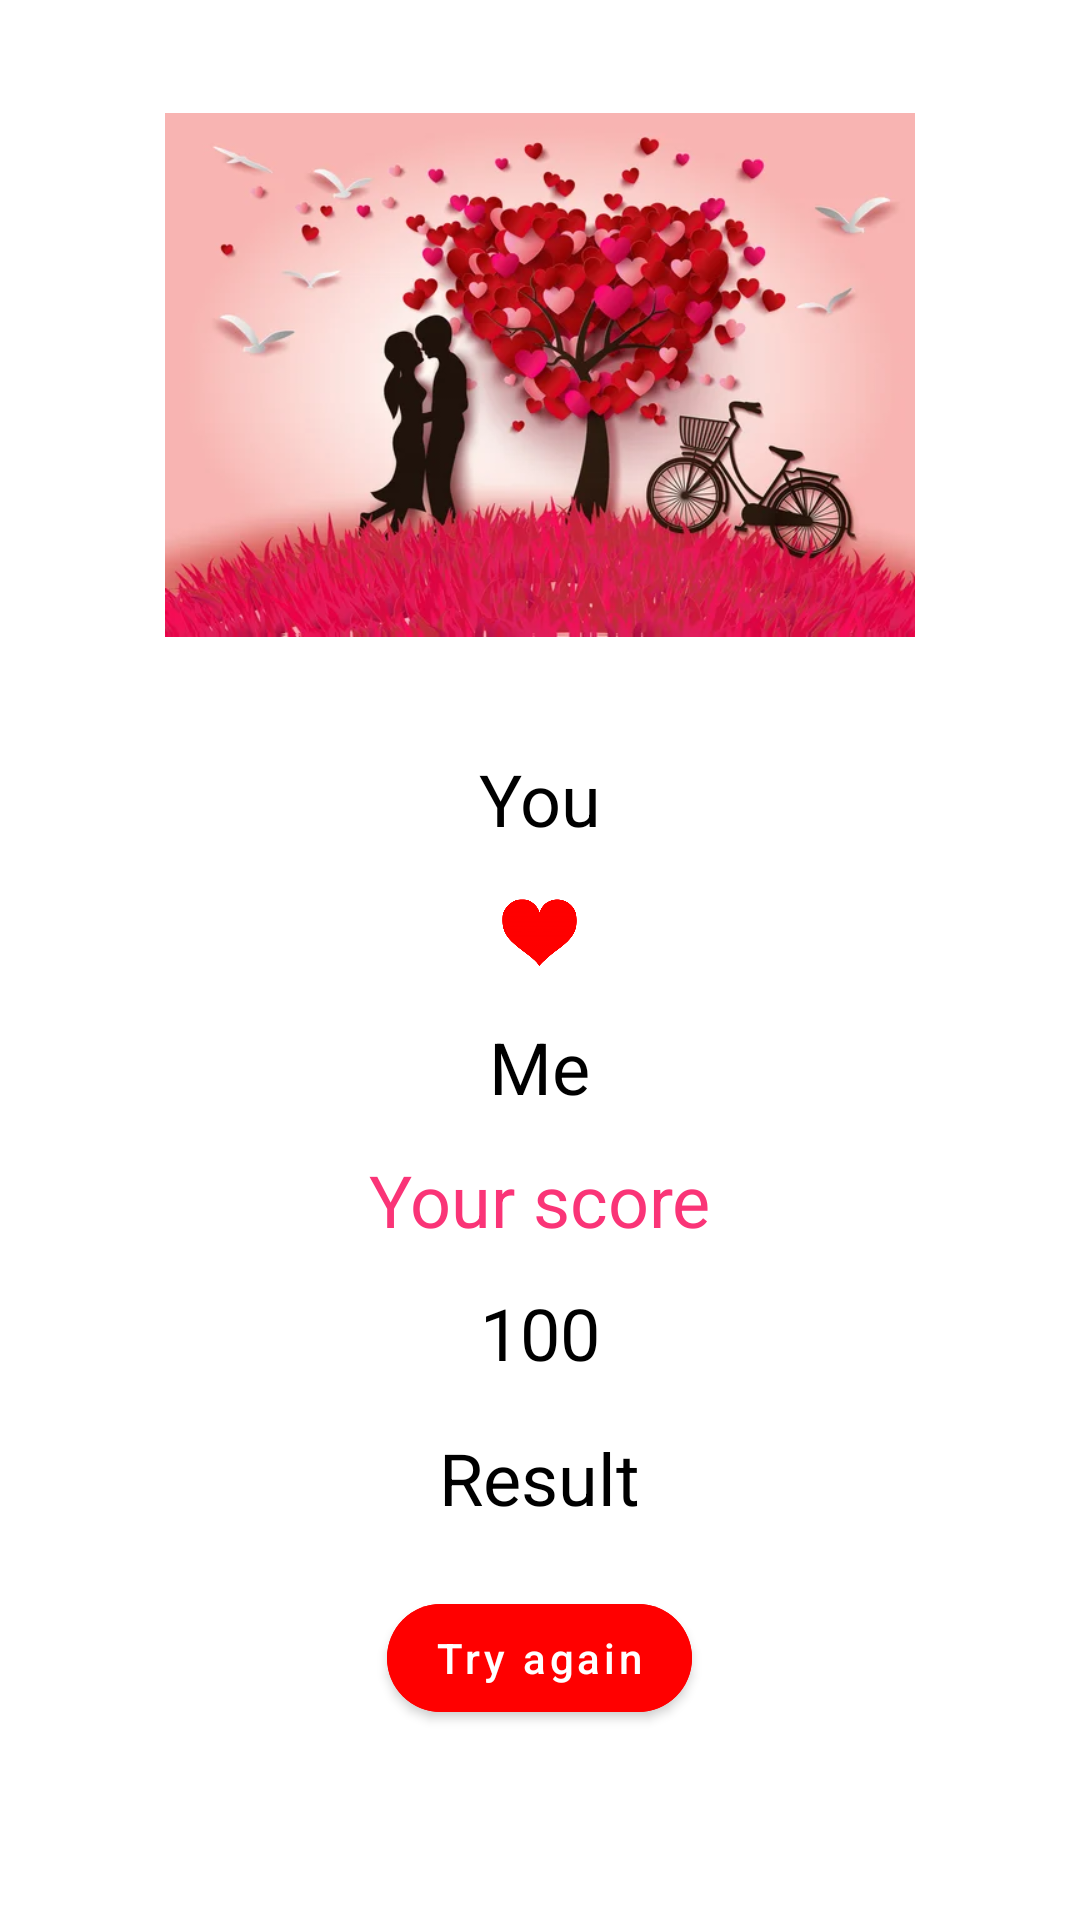

Icon click points for this 1080px×1920px phone screenshot, format point (x, y):
heart: point (539, 932)
